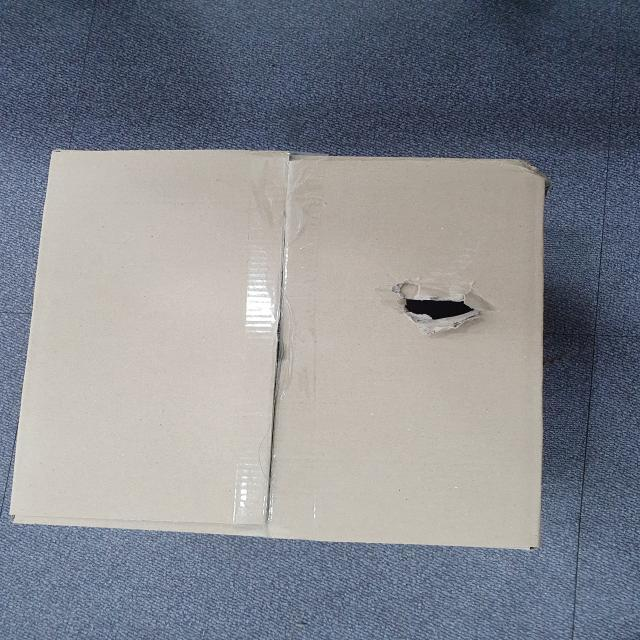hole: (373, 280, 497, 341)
